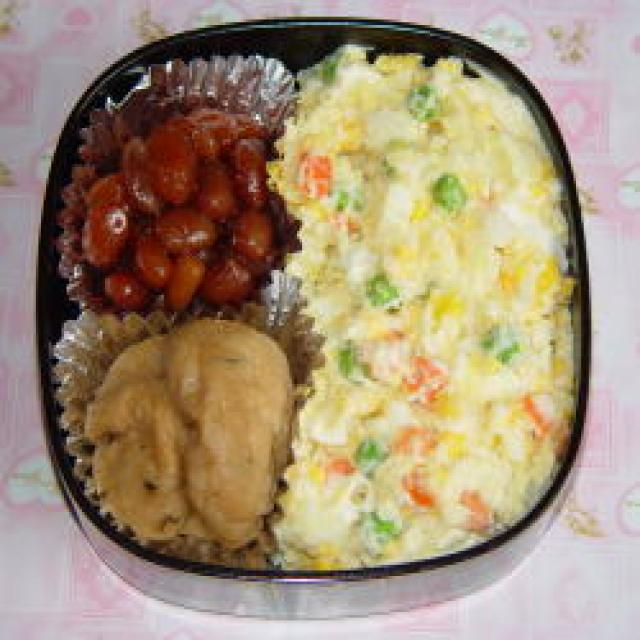熟制海鲜: (64, 314, 294, 584)
